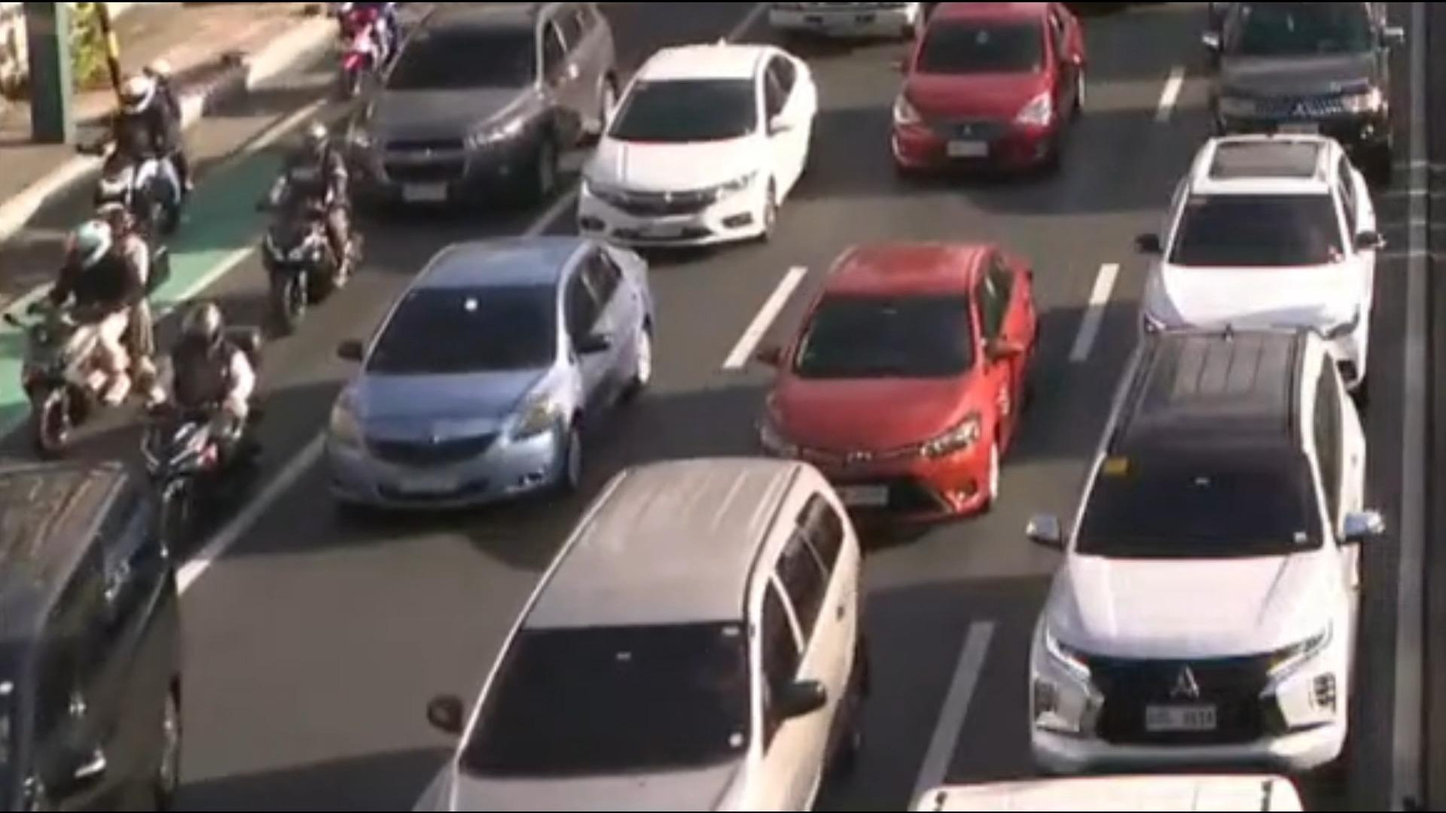Motorcycle: (12, 215, 170, 459), (125, 281, 290, 509), (236, 113, 383, 307), (91, 46, 198, 246), (314, 0, 409, 107)
SUV: (332, 433, 934, 813), (991, 330, 1420, 782), (1108, 119, 1418, 417), (326, 0, 637, 241), (1183, 0, 1446, 179)
Sedan: (311, 207, 663, 535), (713, 239, 1074, 526), (573, 14, 848, 264), (862, 0, 1117, 193)
Van: (0, 461, 224, 813)
